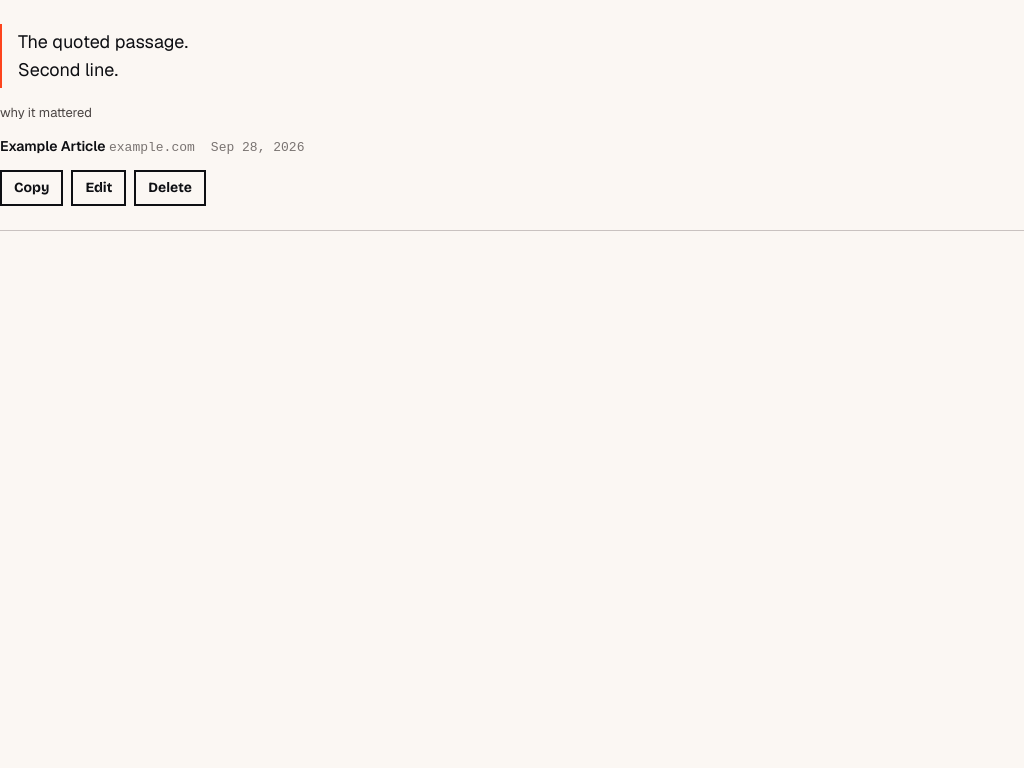
Scenario: QuoteCard › edits text and note in a dialog, sending only what changed
The image size is (1024, 768).
Click the button "Edit". click: coordinates (99, 188)
box: left=71, top=170, right=126, bottom=206
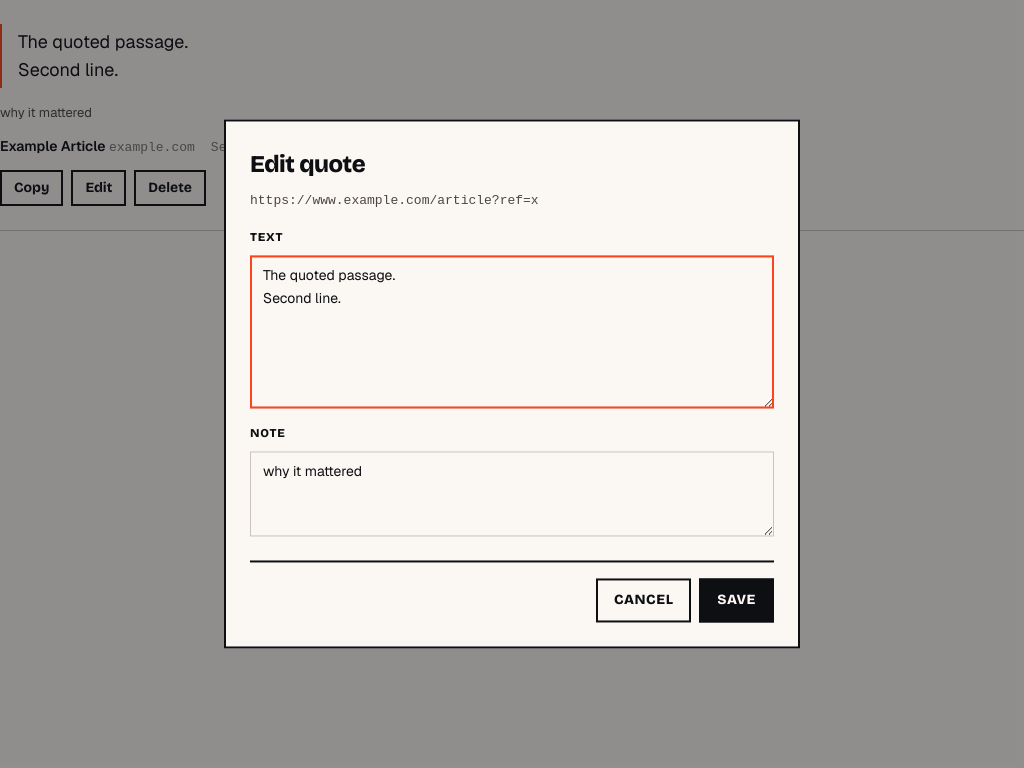
Replace the text in the text box labelled "Text" with "Shorter.". click: coordinates (512, 332)
box: left=250, top=256, right=774, bottom=408
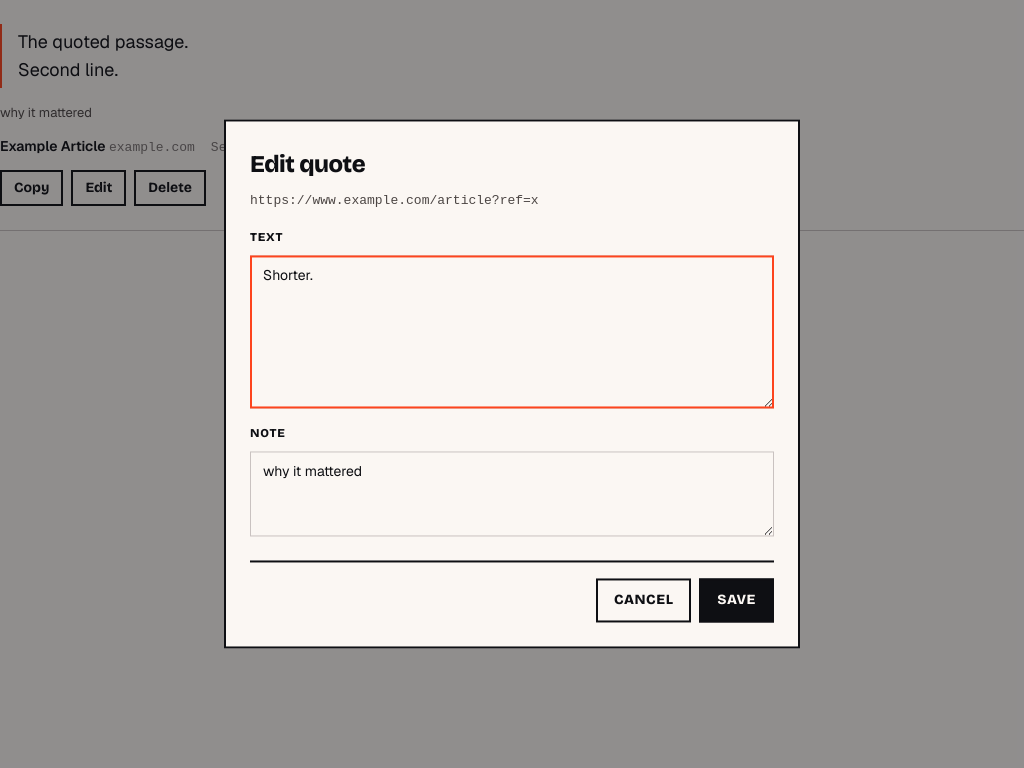
Click the button "Save". click: coordinates (737, 600)
box: left=699, top=578, right=774, bottom=622
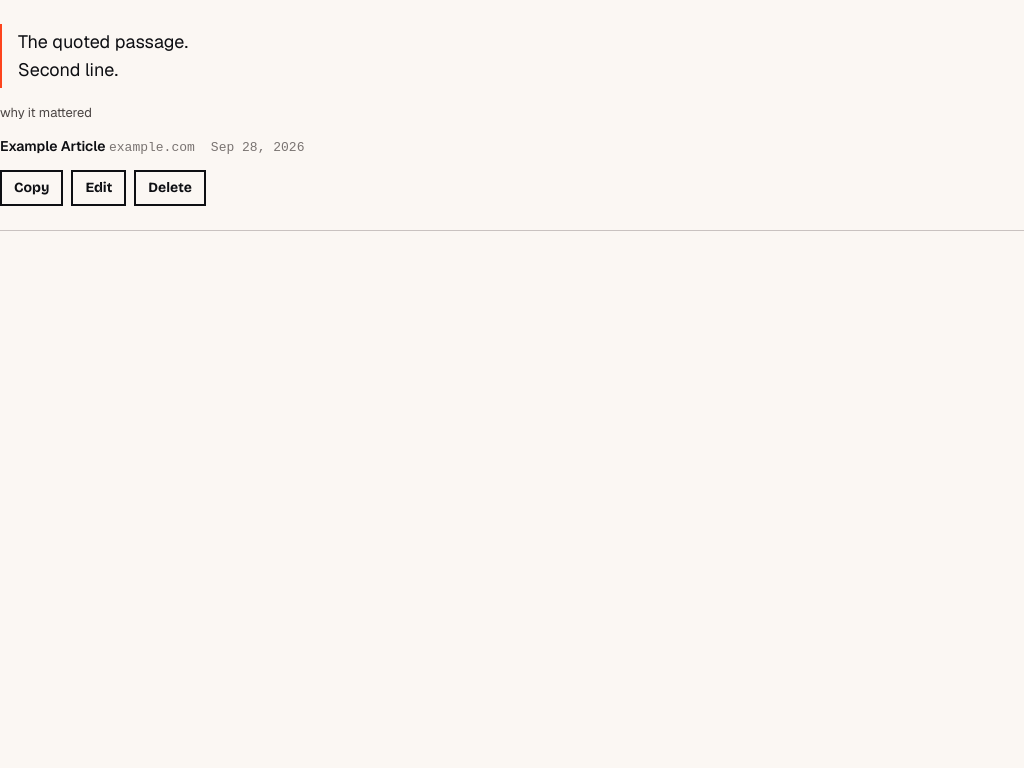
Check: the dialog is gone
